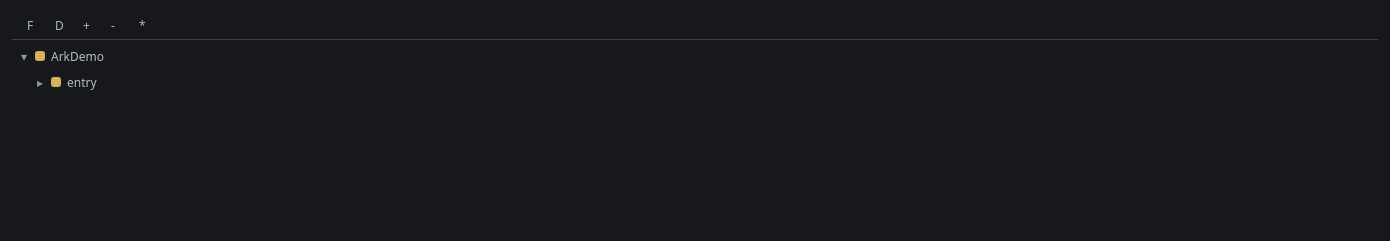
Test: Project tool window › expands and collapses all loaded lazy project directories from the toolbar
Expected: the button "Index.ets" is not shown
Click the button named "Expand All" at x=84, y=26, box left=72, top=12, right=96, bottom=40
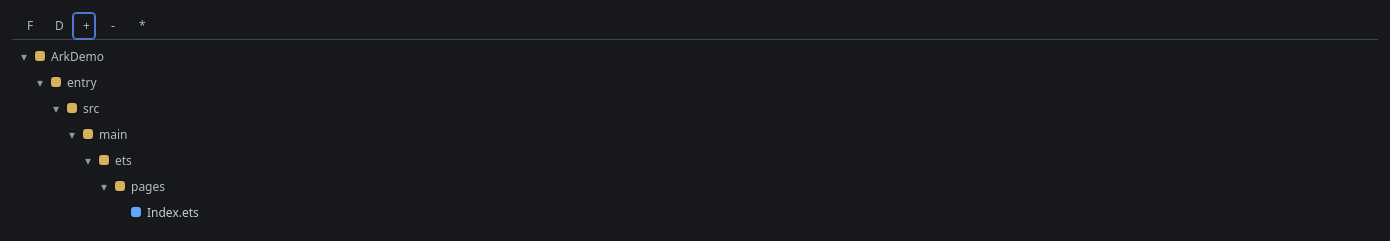
Expected: the button "▾ entry" is expanded, left=12, top=70, right=1378, bottom=94
Expected: the button "Index.ets" is shown, left=12, top=200, right=1378, bottom=224
Click the button named "Collapse All" at x=112, y=26, box left=100, top=12, right=124, bottom=40
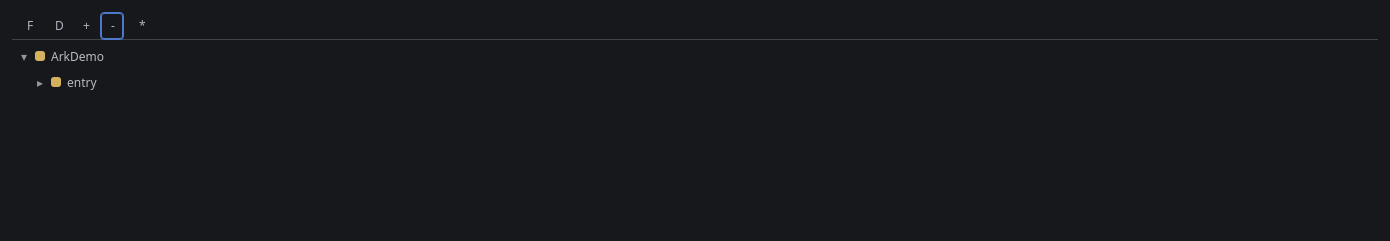
Expected: the button "▸ entry" is collapsed, left=12, top=70, right=1378, bottom=94
Expected: the button "pages" is gone
Expected: the button "Index.ets" is gone
